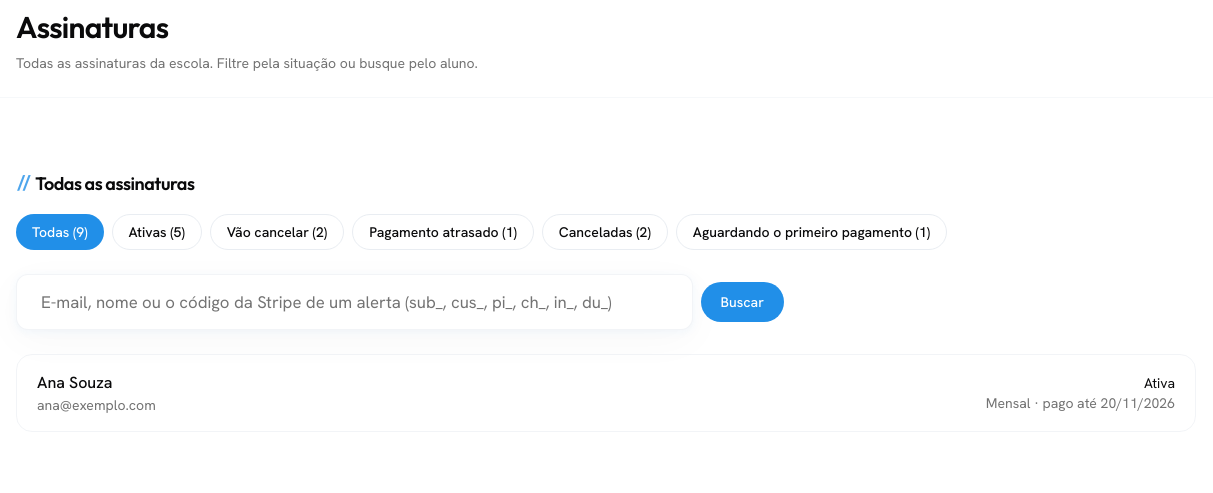
Scenario: Cobrança → Assinaturas — da lista para a ficha (passo 1d) › o código que ninguém da escola tem: diz isso, e a lista continua
Expected: the link "Ana Souza" is shown, [37,372,112,393]
Replace the text in the field with "du_999": (354, 302) [16,274,693,330]
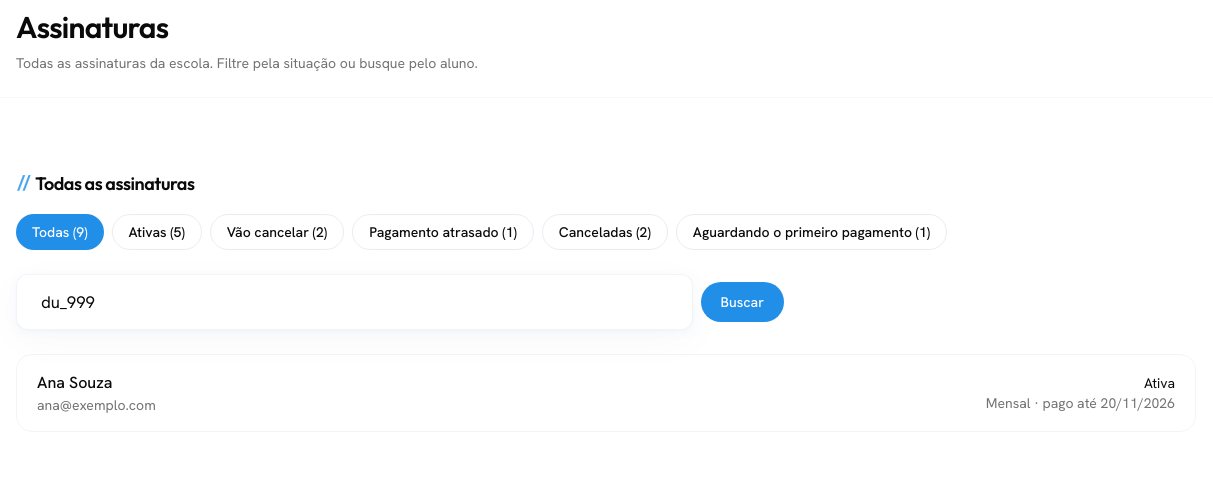
Click the button "Buscar": (742, 302) [701,282,784,322]
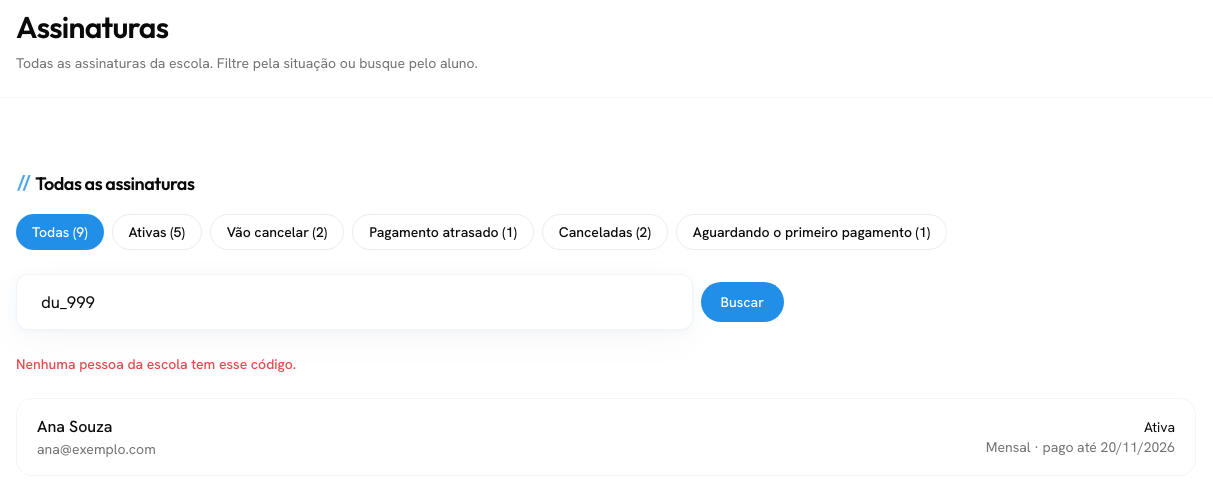
Expected: the link "Ana Souza" is shown, [37,416,112,437]
Now the message reads "Nenhuma pessoa da escola tem esse código.", box [16,355,296,373]
